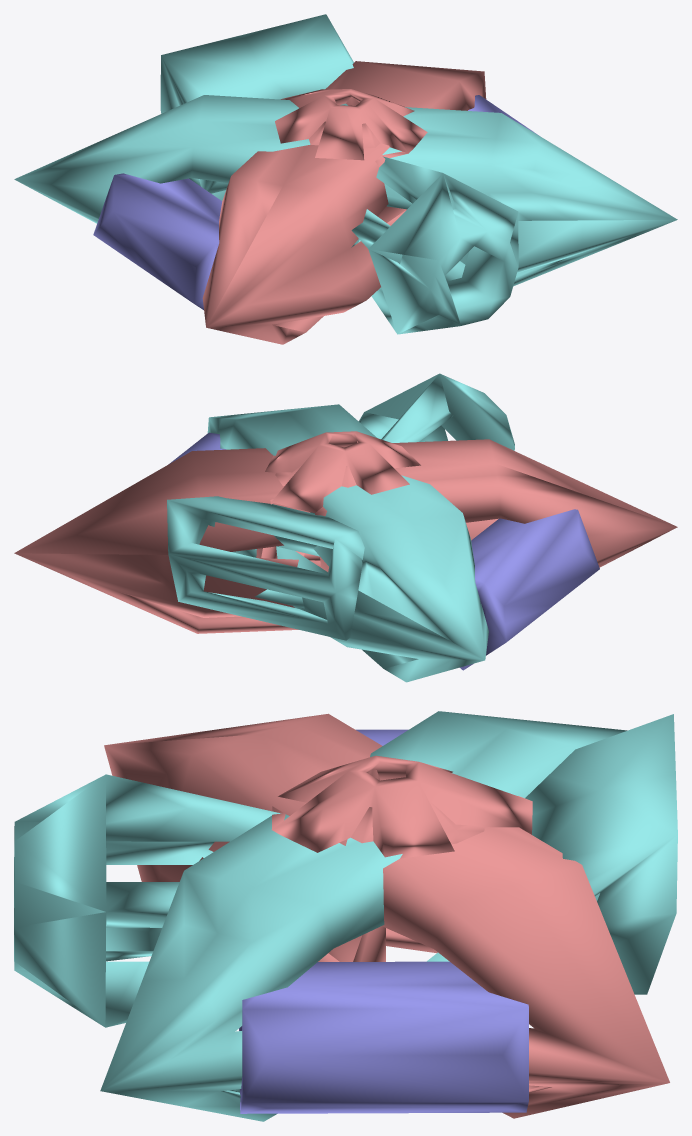
Rendered from DiscoPlayer.fbx.
3 renders of one model, top to bottom at view 1: azimuth 30°, elevation 25°; view 2: azimuth 150°, elevation 25°; view 3: azimuth 270°, elevation 25°, orthographic. The views are drawn at different scales.
Parts seen in each view (by area): view 1: mesh26; view 2: mesh26; view 3: mesh26.
Boxes of the visible parts, left/top/right/bottom form: mesh26: left=14, top=14, right=677, bottom=344; mesh26: left=14, top=373, right=677, bottom=682; mesh26: left=14, top=711, right=677, bottom=1121.
Size of the model in its own units: 2.71 by 1.04 by 2.25.
